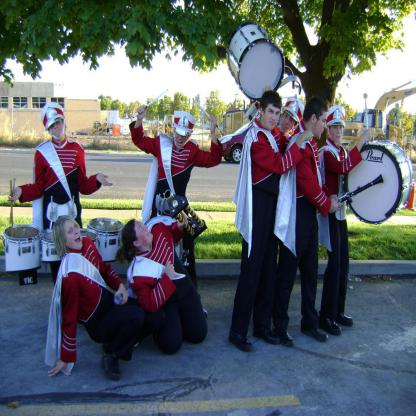face: (64, 221, 84, 251), (265, 103, 282, 131), (135, 221, 154, 244), (49, 115, 65, 140), (280, 111, 296, 135), (176, 125, 191, 150), (315, 112, 329, 137), (331, 125, 345, 143)
